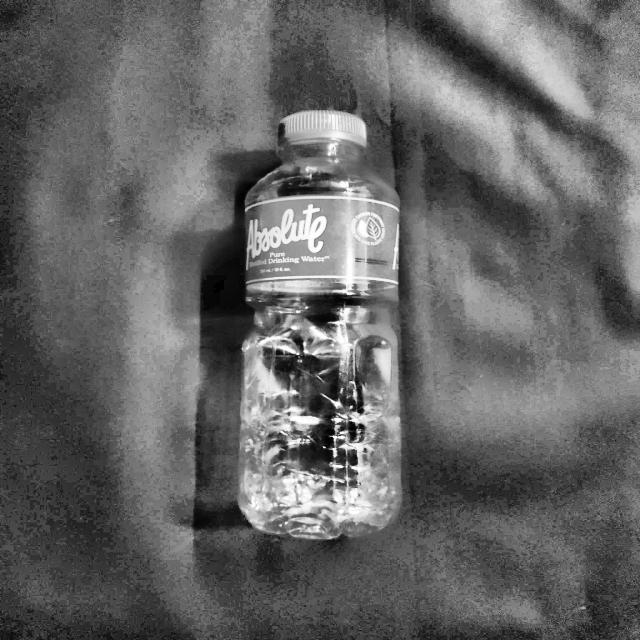Plastic-Bottle: (234, 104, 408, 544)
